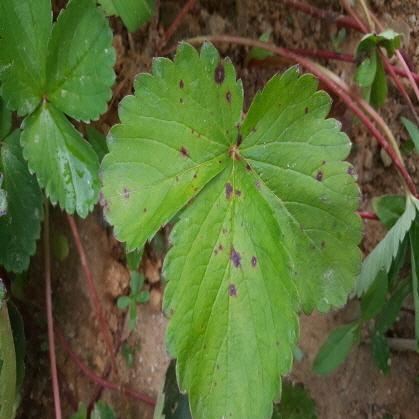Leaf Spot: (159, 151, 301, 418), (235, 63, 366, 316), (96, 37, 243, 253)
